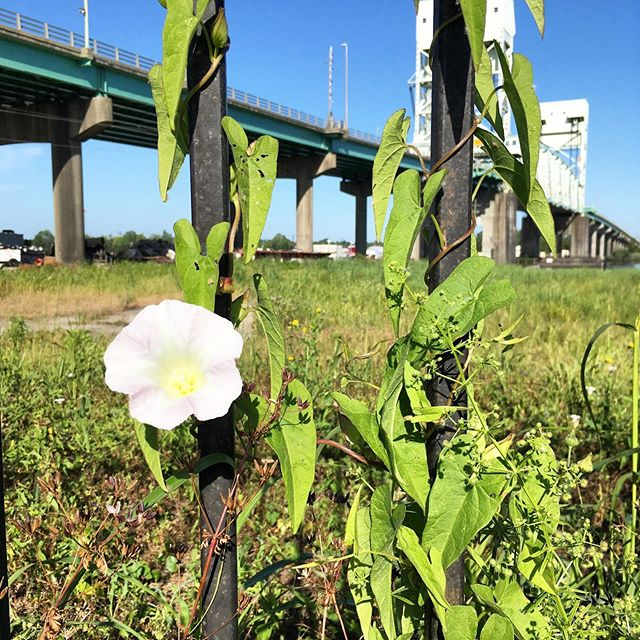bridge: (1, 1, 547, 265)
flowers: (85, 262, 287, 451)
grass: (19, 271, 640, 640)
sky: (261, 1, 640, 160)
